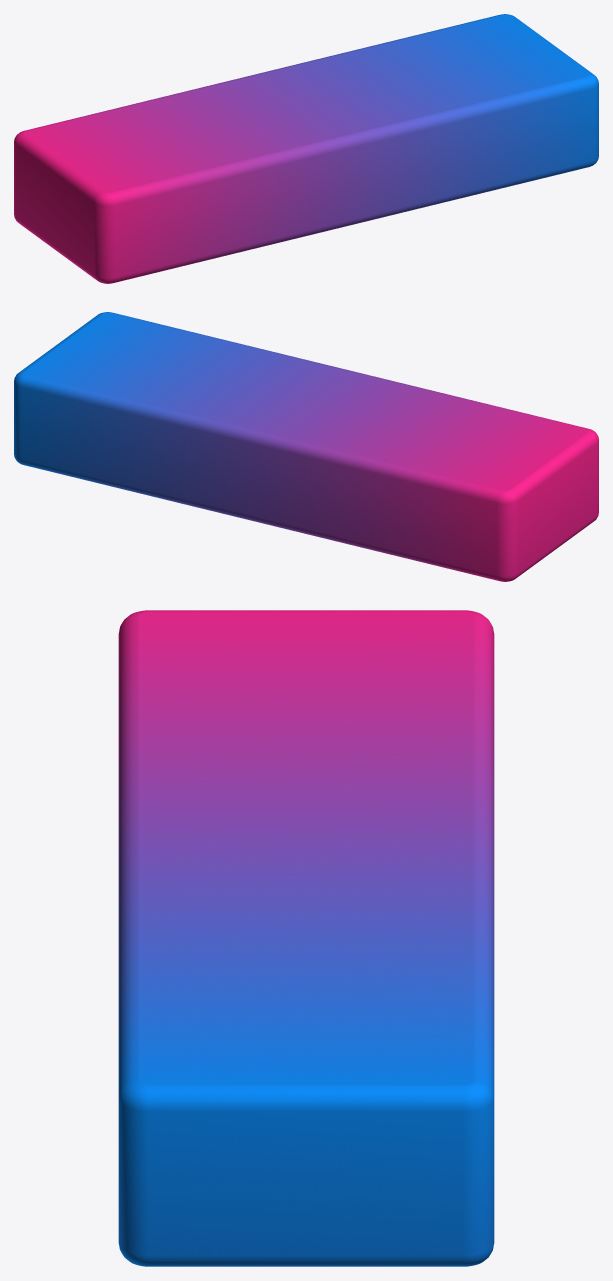
Rendered from Paddle-32.dae.
3 renders of one model, top to bottom at view 1: azimuth 30°, elevation 25°; view 2: azimuth 150°, elevation 25°; view 3: azimuth 270°, elevation 25°, orthographic. The views are drawn at different scales.
Visible parts, largest first — view 1: Paddle; view 2: Paddle; view 3: Paddle.
Boxes of the visible parts, x1,y1,x2,y2 form: Paddle: (14,14,598,283); Paddle: (14,312,598,581); Paddle: (118,610,494,1266).
Bounding box in the file's own units: 0.2922 × 0.05 × 0.0947.
1 material, 1 textured.
